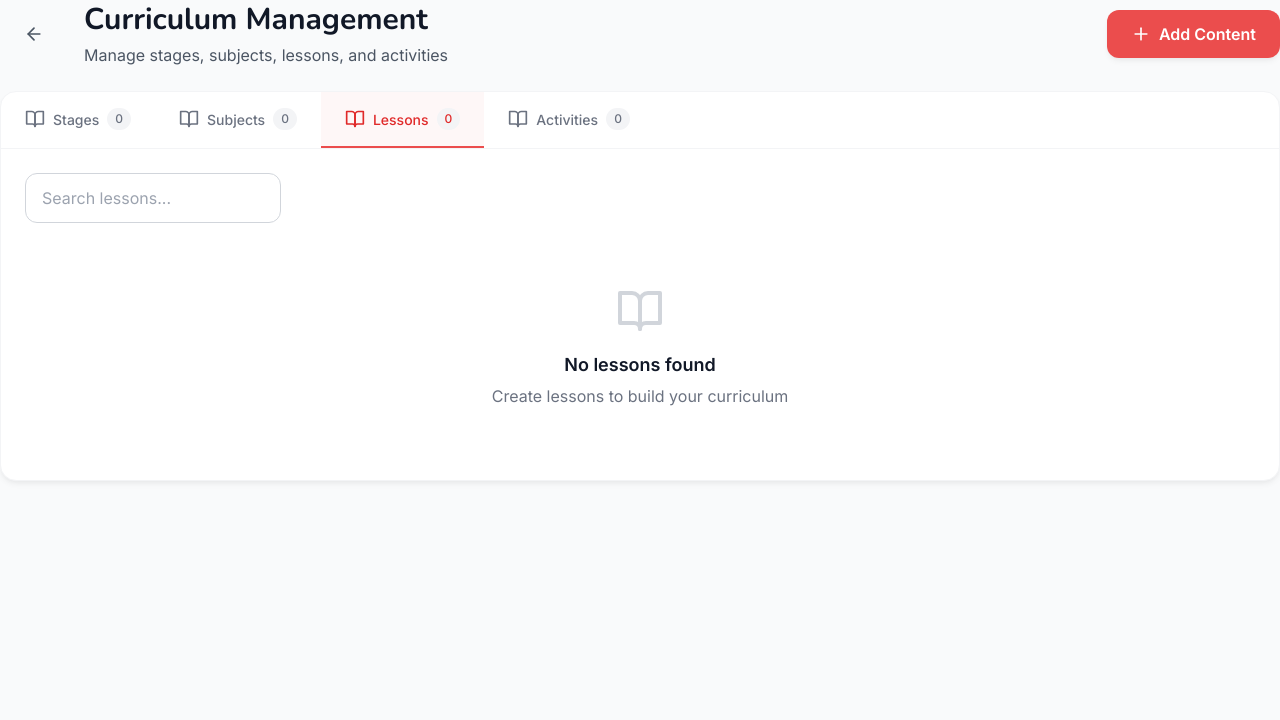
Scenario: CurriculumPage — Form Validation › shows validation error when creating an activity without required fields
The image size is (1280, 720).
Click the button "Activities 0".
click(569, 120)  # box [484,92,654,148]
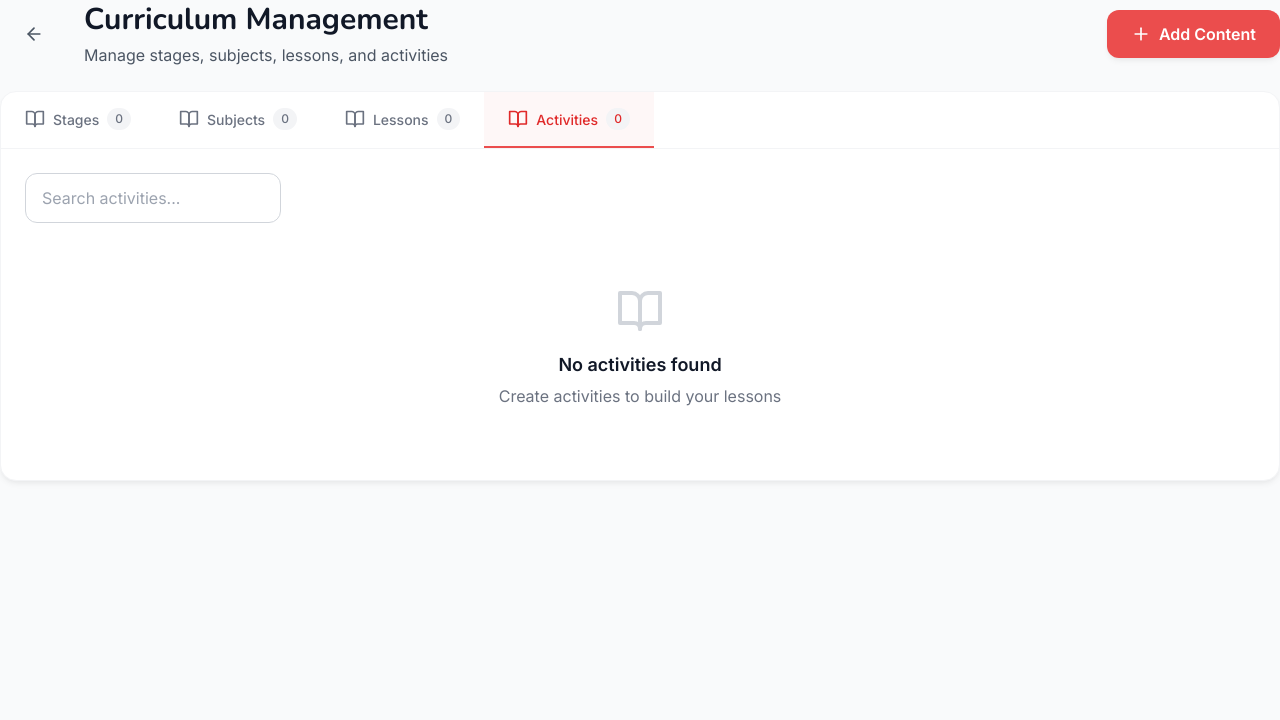
Click the button "Add Content".
click(1193, 34)  # box [1107,10,1279,58]
(page scrolled)
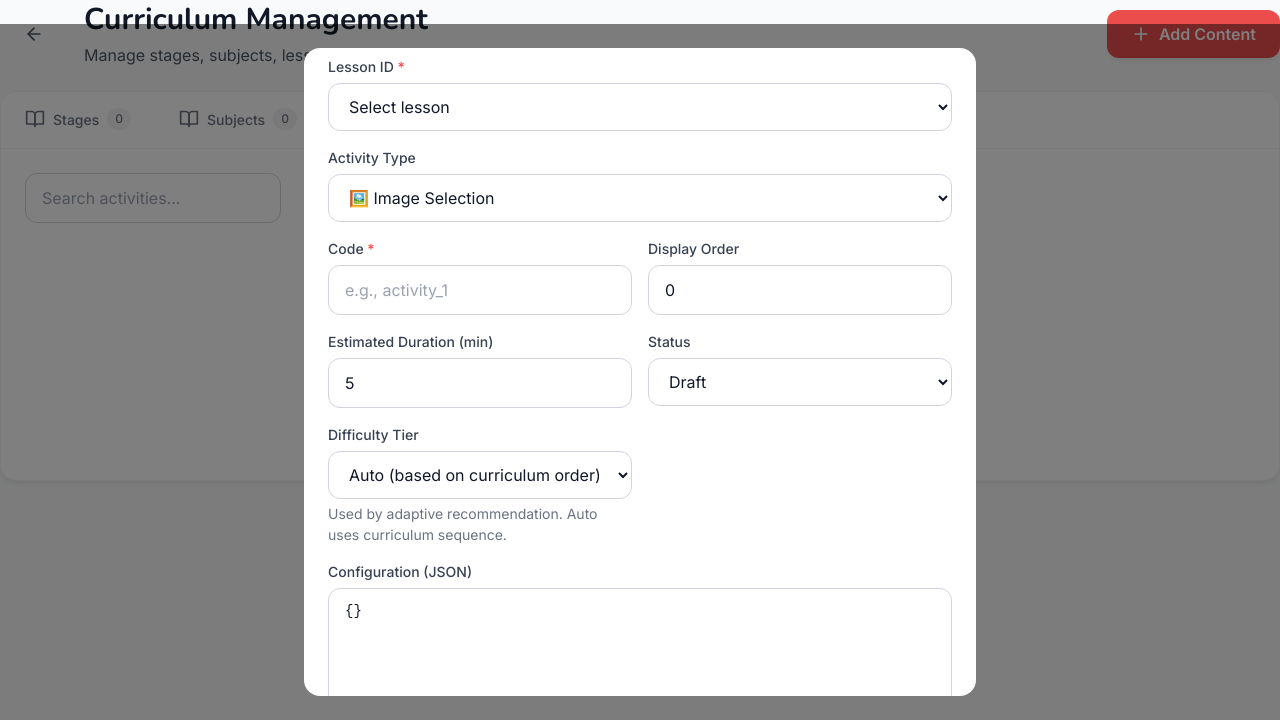
Now the form is shown, box [304,48,976,696]
Submit the form
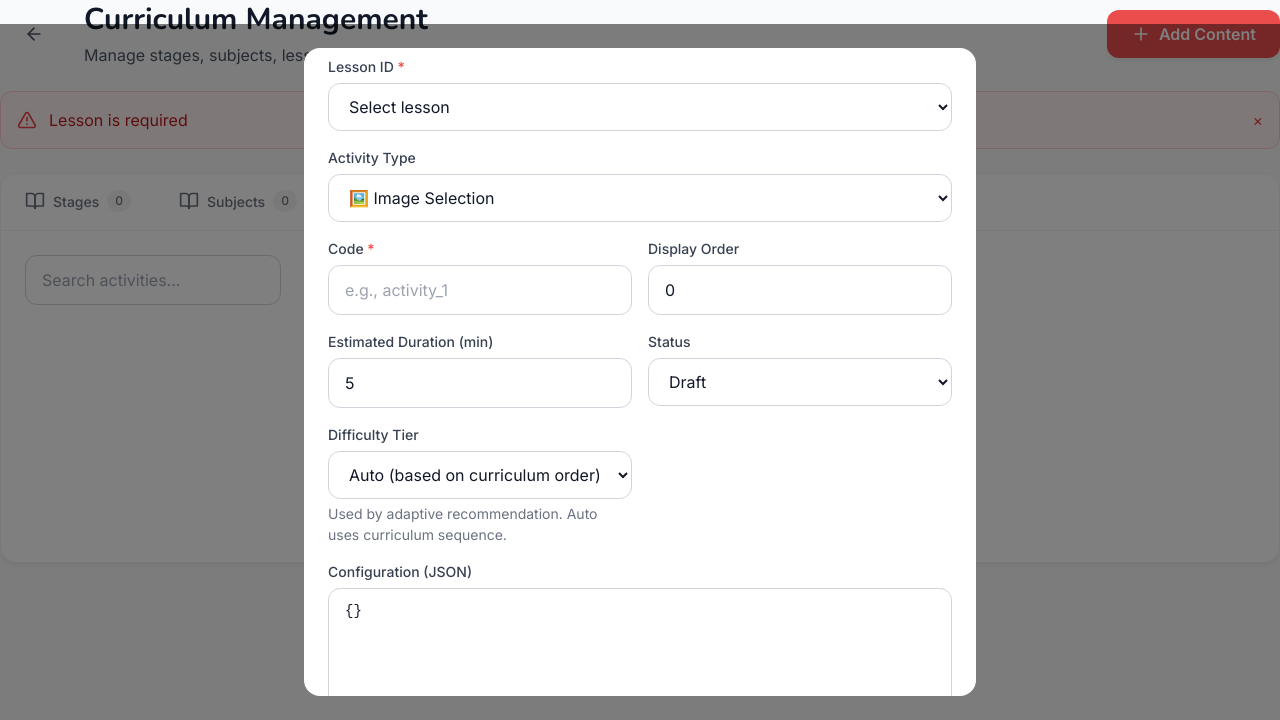
Now the message "Lesson is required ×" is shown, box [0,91,1279,149]
